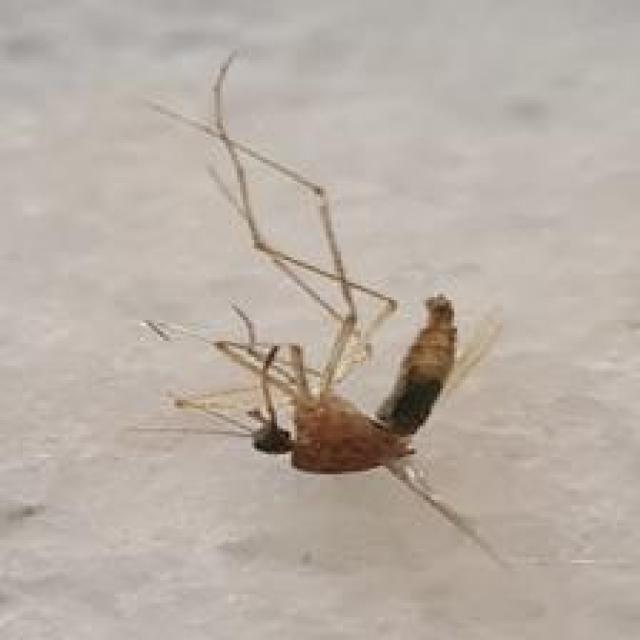Culex: (130, 49, 519, 574)
